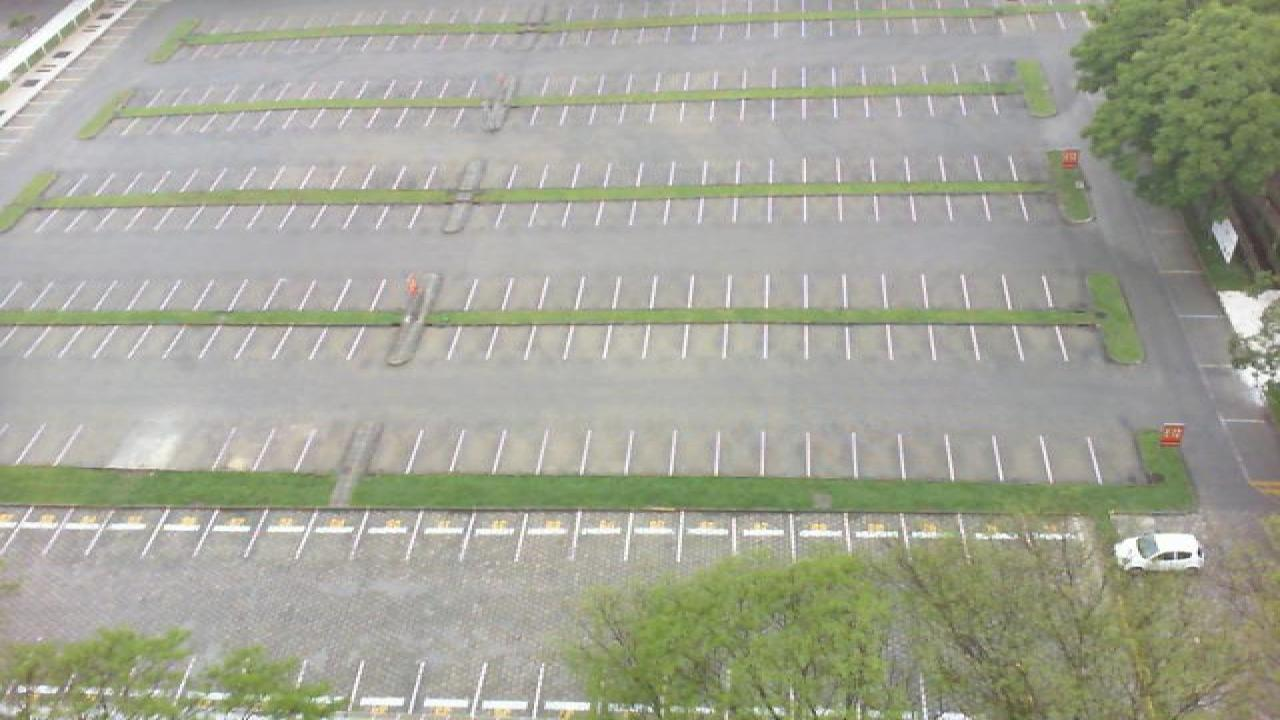Car: (1112, 532, 1204, 573)
